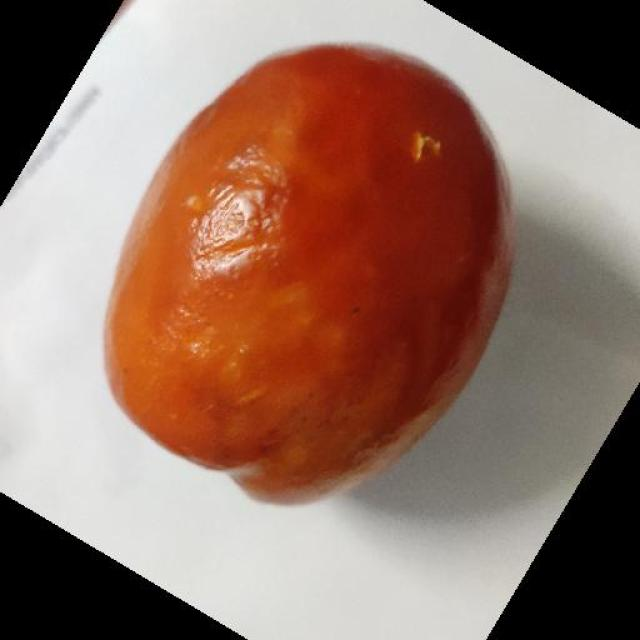Stale_tomato: (122, 48, 490, 510)
